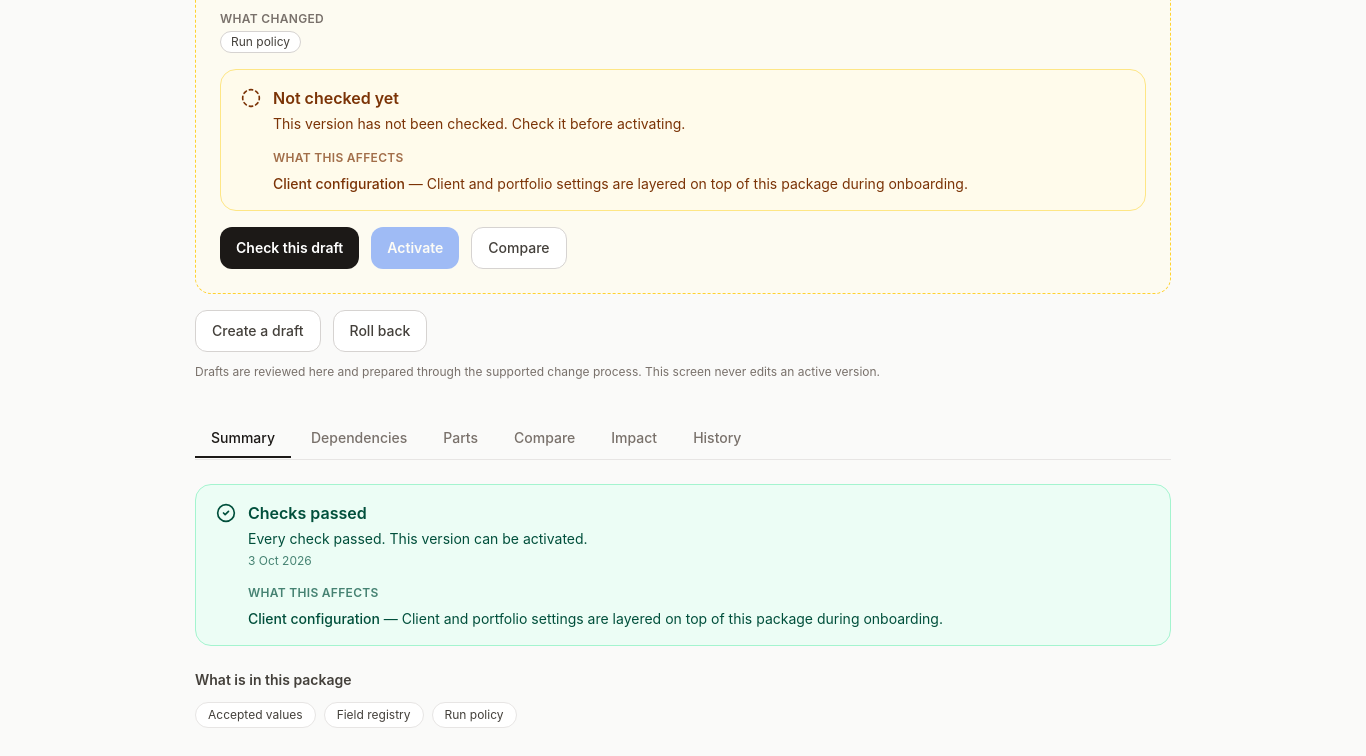
Test case: versions › lists historical versions and highlights the active one
(page scrolled)
Click the button "History".
click(717, 439)  # box [677,420,757,458]
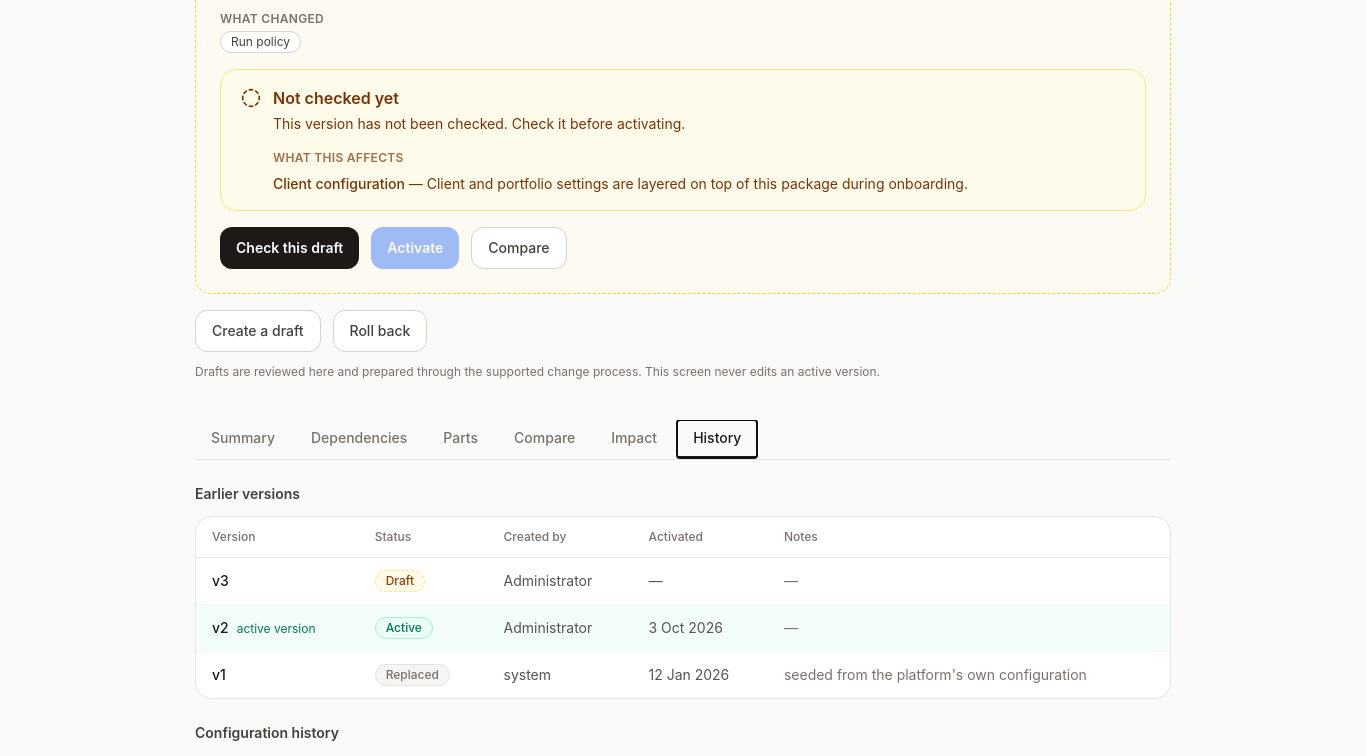
expect the column heading "v1" is shown: met, box [196,652,359,698]
expect the column heading "v2" is shown: met, box [196,604,359,652]
expect the column heading "v3" is shown: met, box [196,558,359,604]
